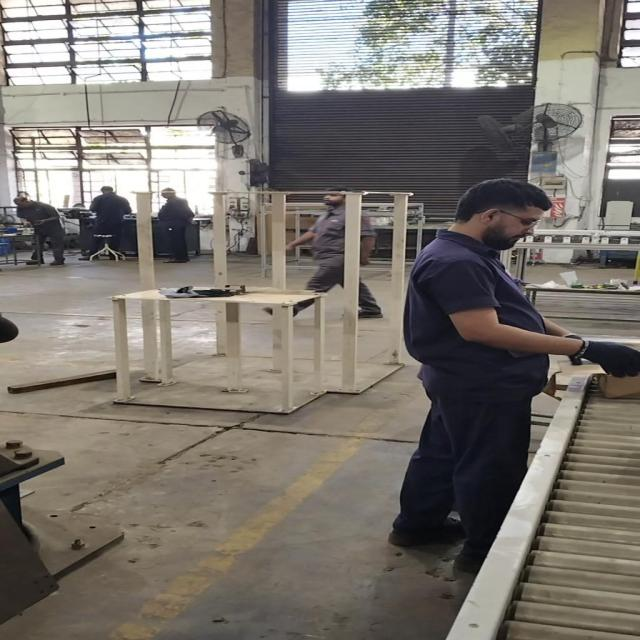Gloves-Detection: (570, 334, 639, 382)
